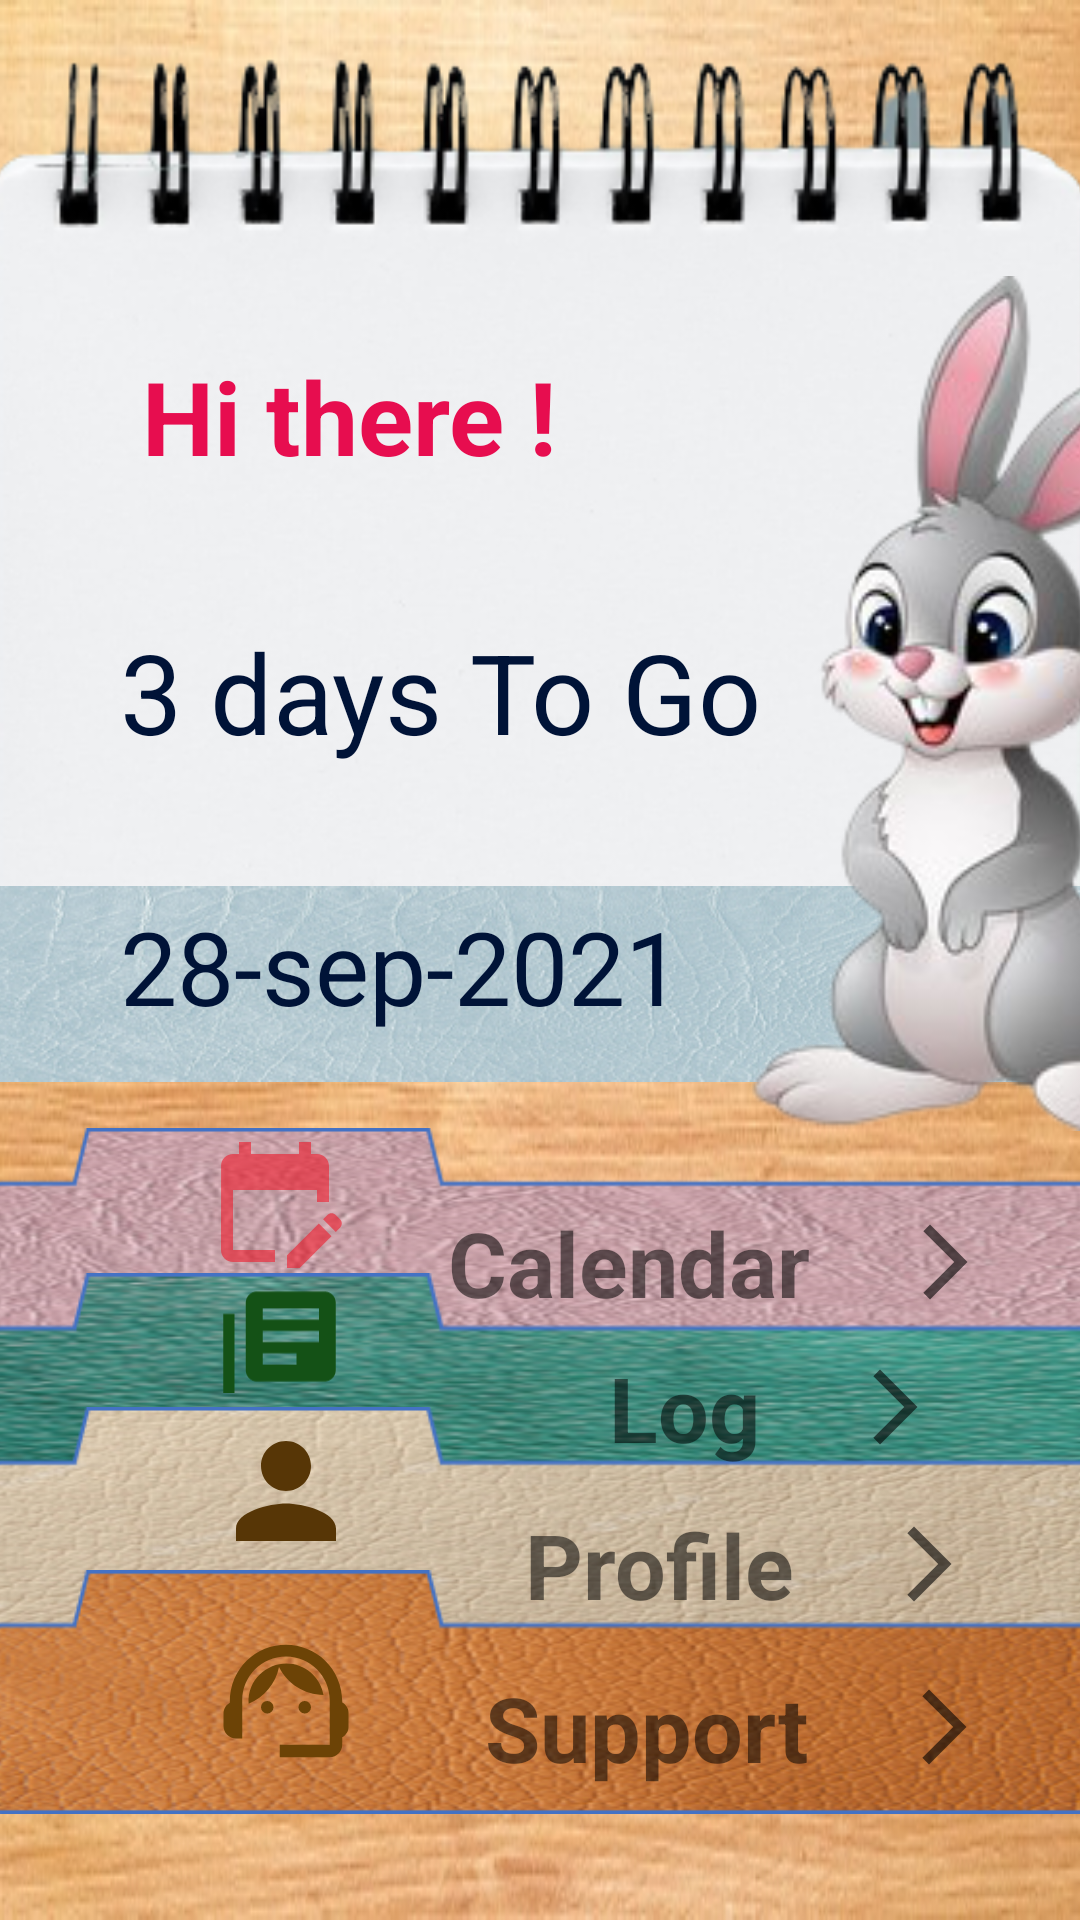

Icon click points for this 1080w x 1920h phone screenshot, format (x=x, y=y):
logs: (x=279, y=1336)
profile: (x=288, y=1493)
